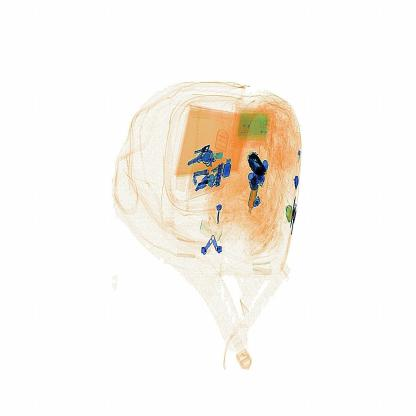scissors: (232, 142, 277, 190)
